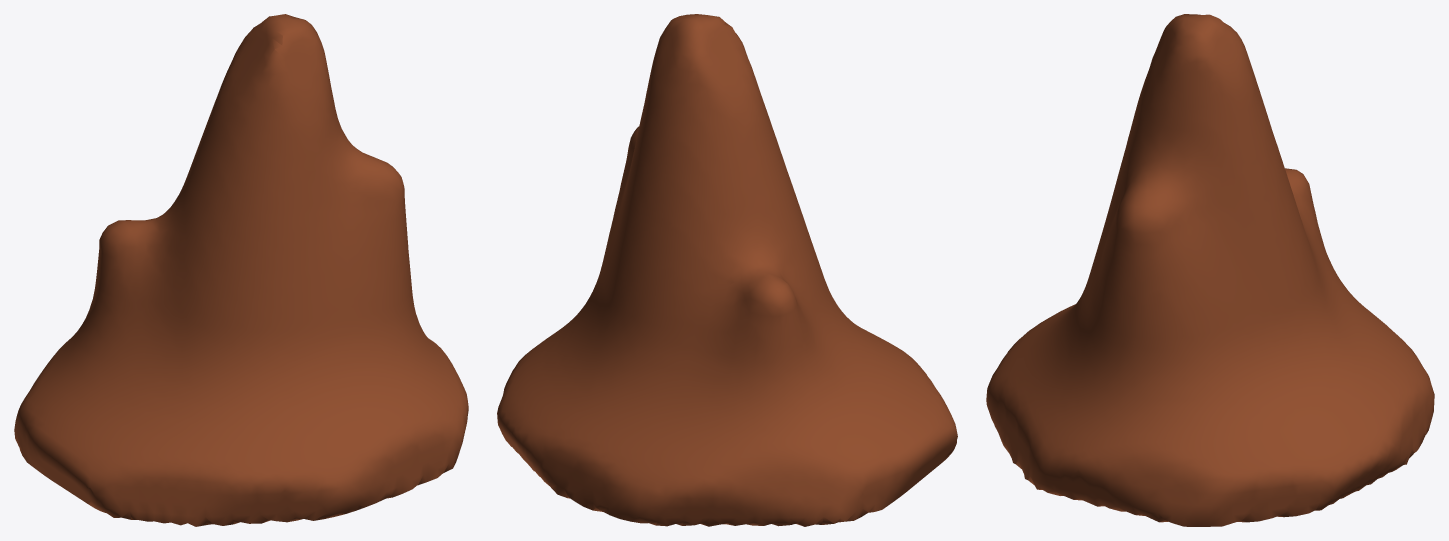
File: termite-mound.glb
The picture shows the model from 3 angles, left to right: view 1: azimuth 30°, elevation 25°; view 2: azimuth 150°, elevation 25°; view 3: azimuth 270°, elevation 25°; orthographic projection. The views are drawn at different scales.
Parts seen in each view (by area): view 1: mound; view 2: mound; view 3: mound.
Boxes of the visible parts, <box> form: mound: <box>14,14,468,526</box>; mound: <box>497,14,957,526</box>; mound: <box>986,14,1434,526</box>.
Bounding box in the file's own units: 2.11 × 2.09 × 1.98.
